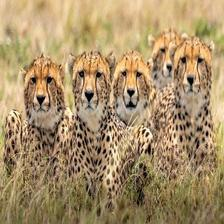Cheetah: (152, 36, 221, 187), (0, 53, 72, 194), (63, 50, 122, 201), (145, 29, 196, 186), (105, 53, 159, 196)
